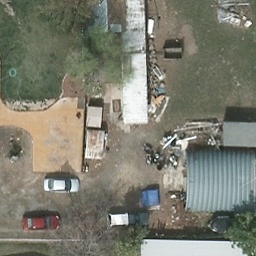car: (20, 213, 61, 233), (43, 177, 82, 195)
pickup: (105, 211, 153, 231)
